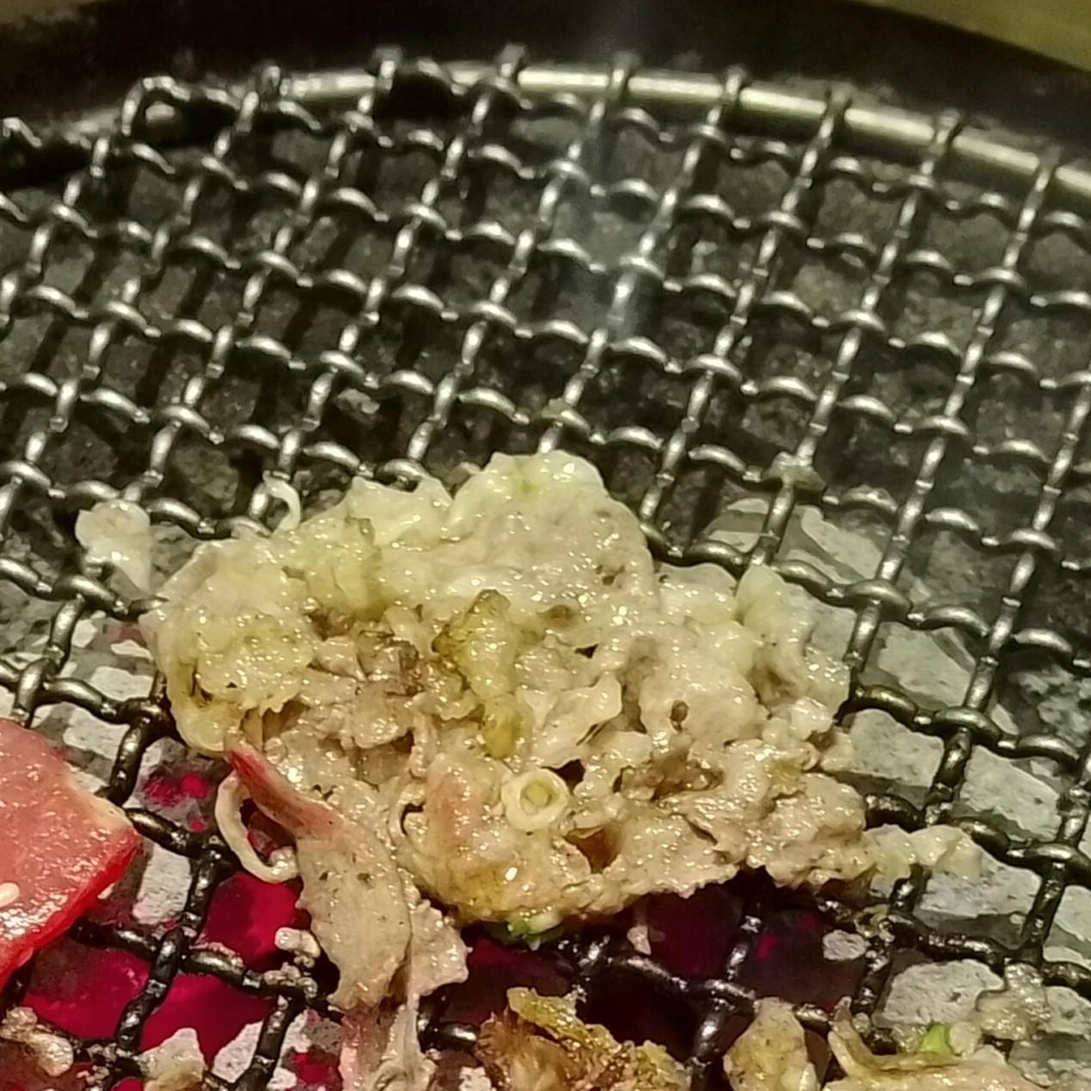Overcooked: (477, 989, 683, 1090)
Undercooked: (0, 726, 137, 984)
Well-Cooked: (159, 488, 856, 921)
